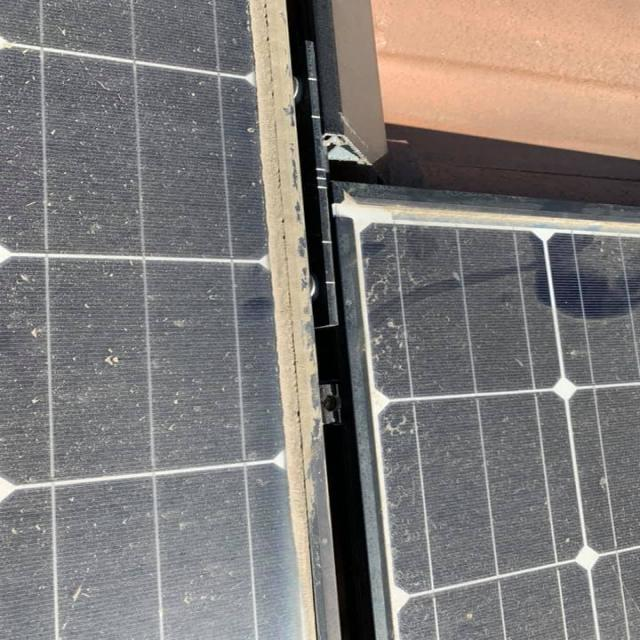faulty: (0, 6, 289, 640), (349, 213, 640, 640)
